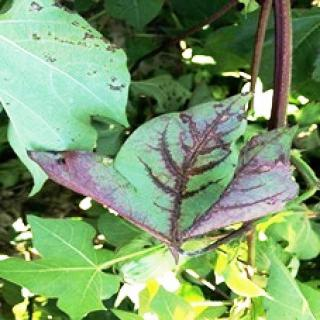blight: (20, 96, 298, 254), (21, 0, 129, 96)
